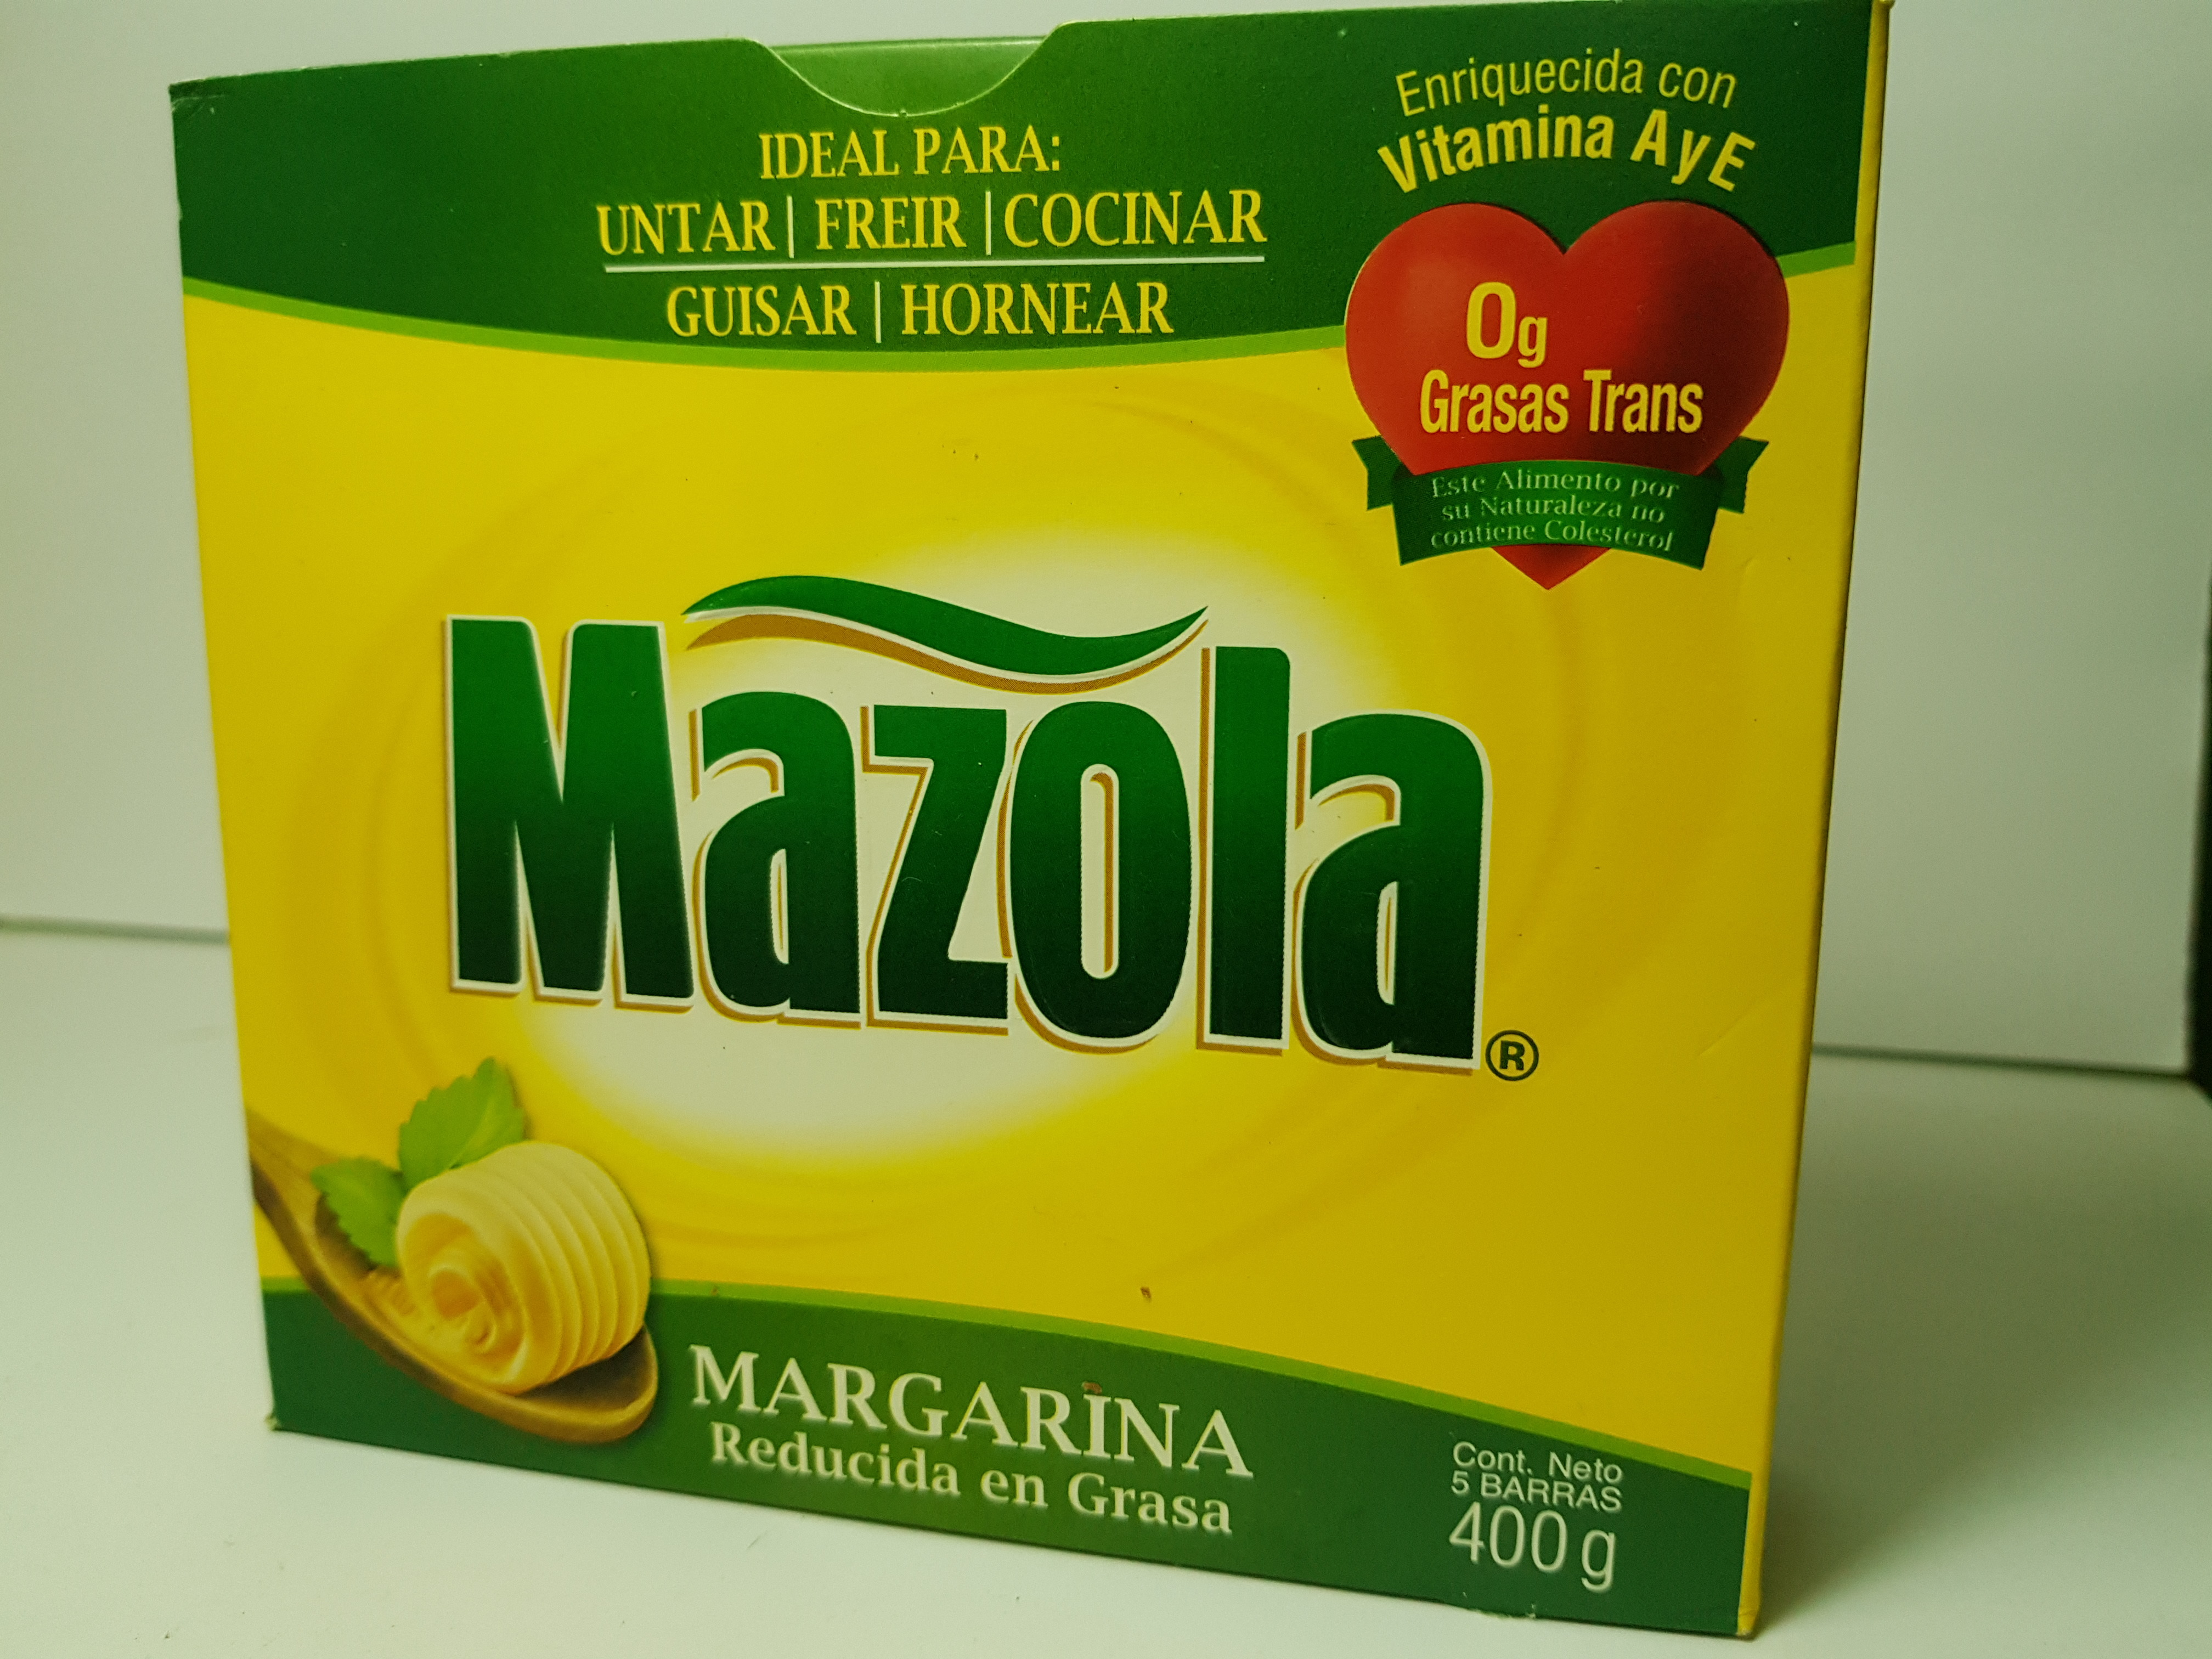mazola: (153, 0, 1946, 1614)
